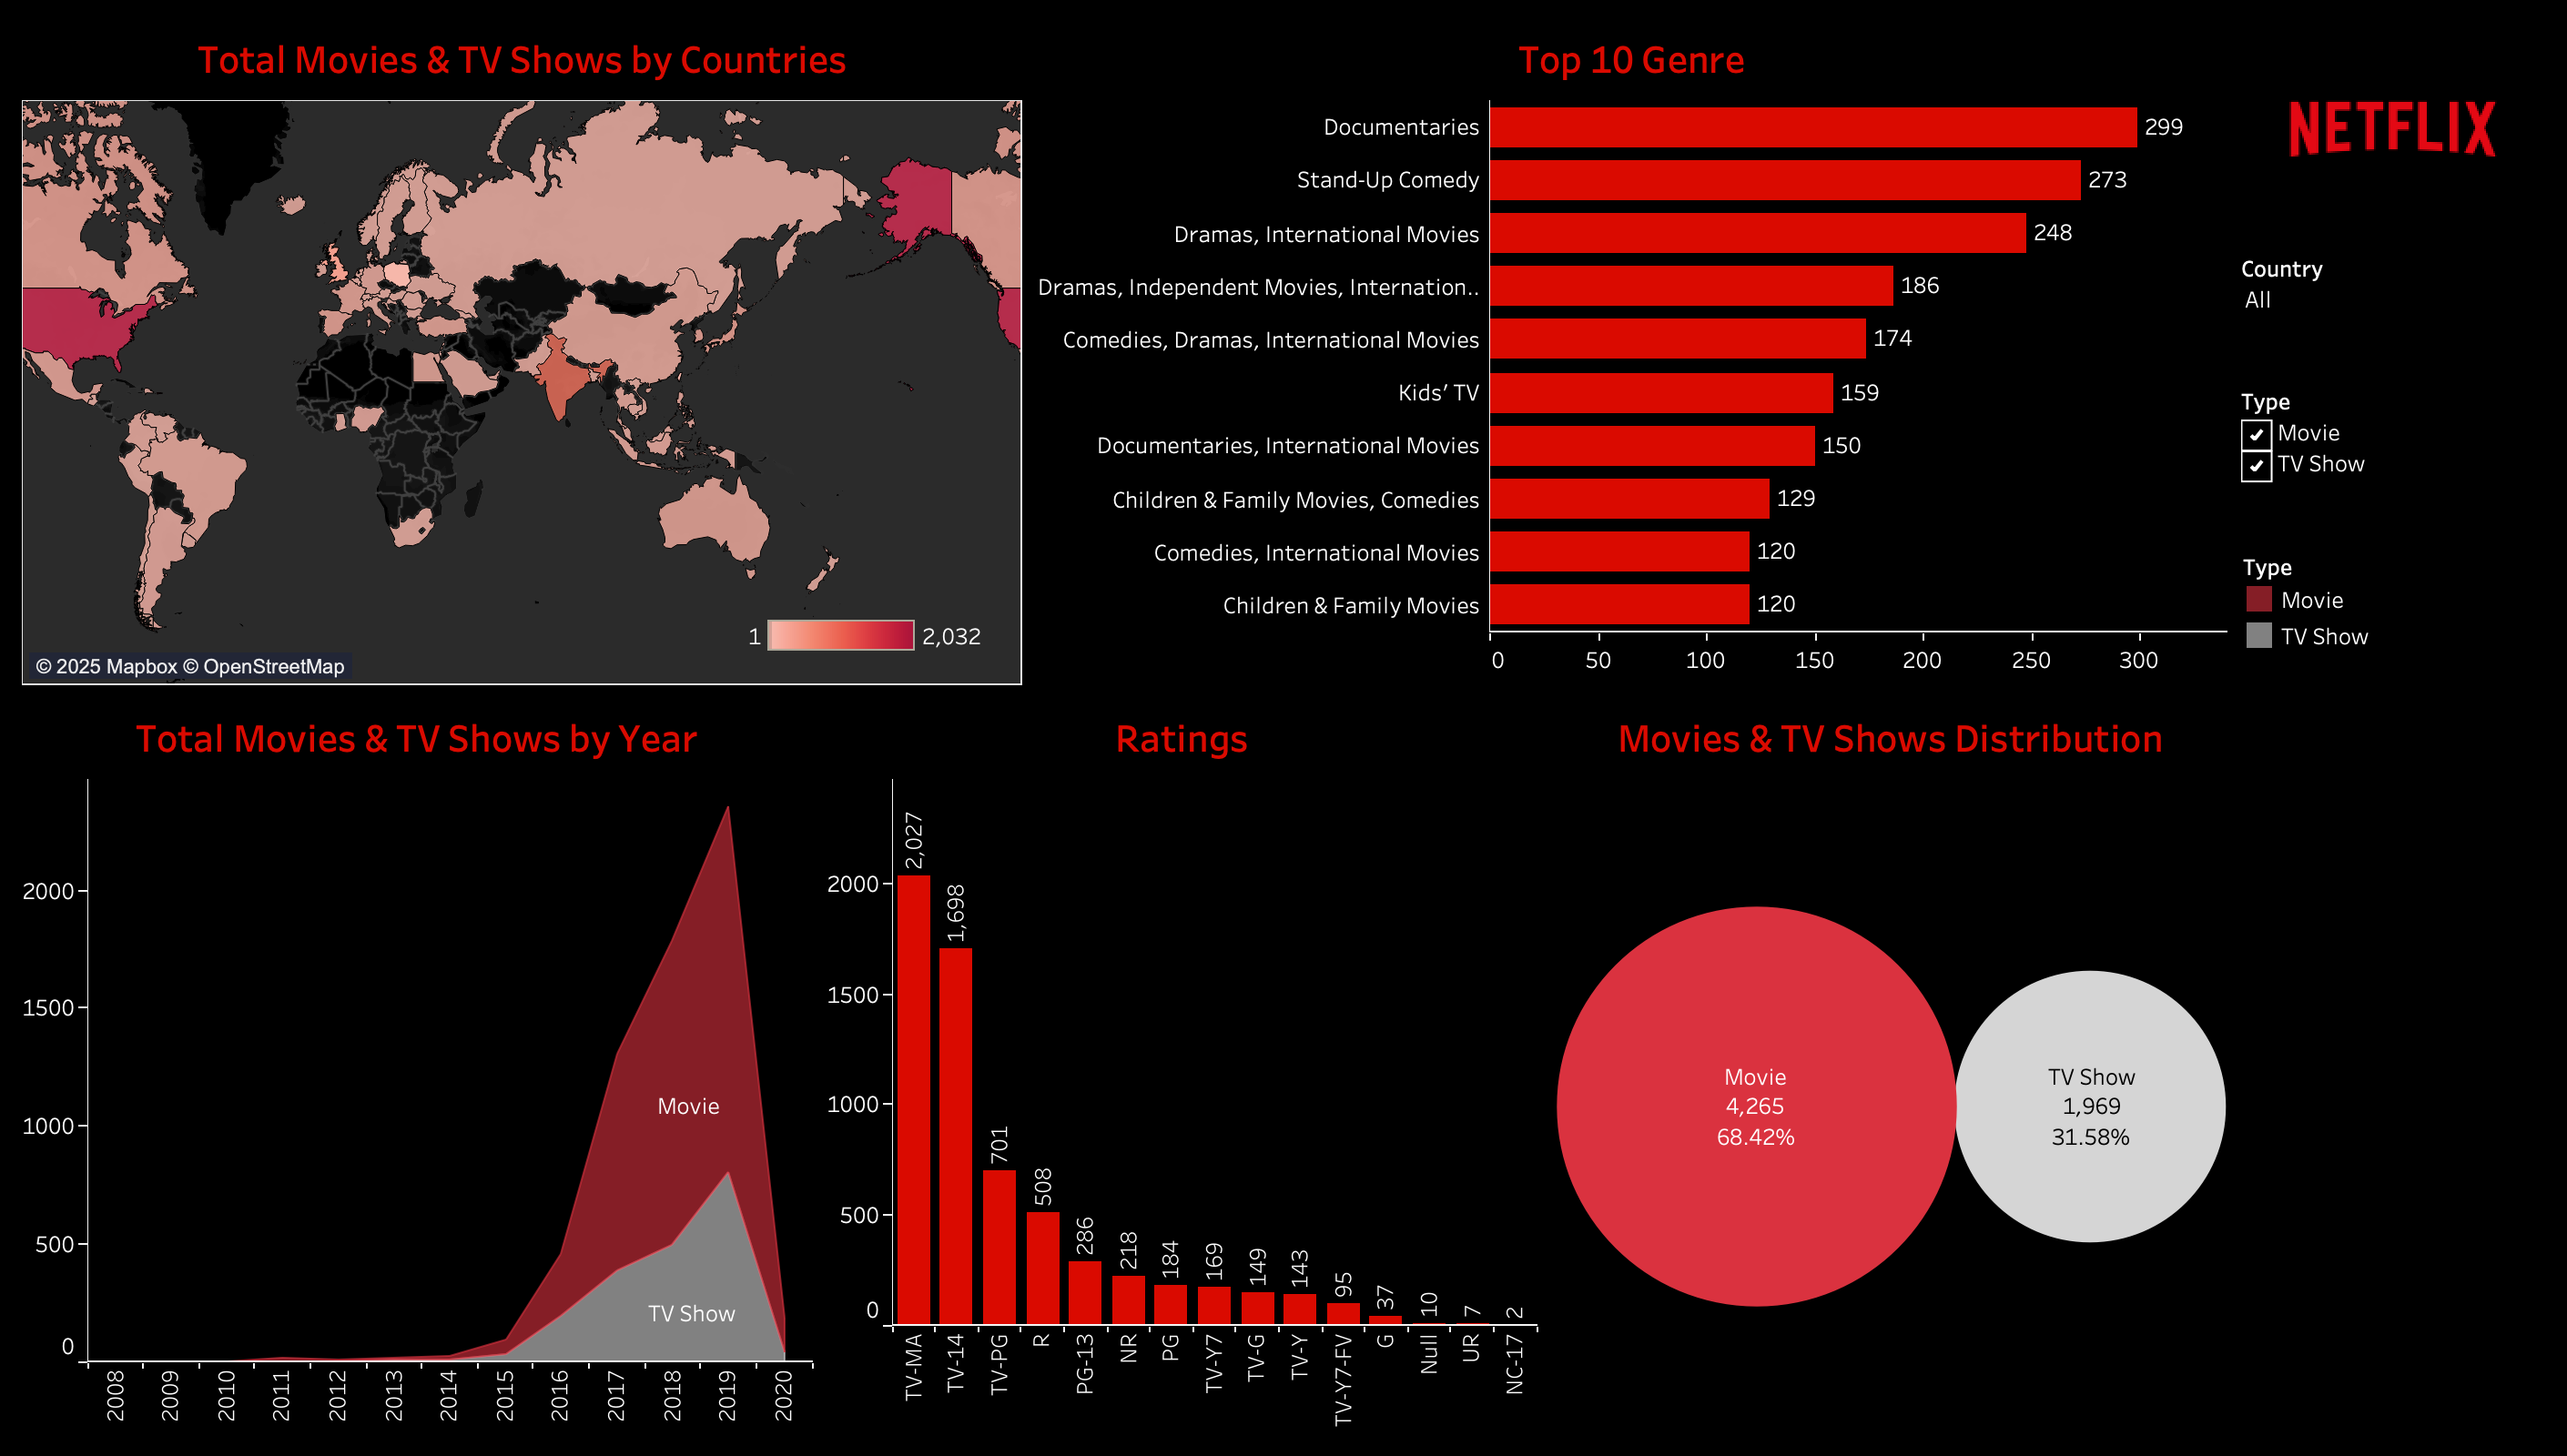

This screenshot's page, from the dashboard's own definition file:
{"tool":"tableau","page":{"name":"Netflix","canvas":[1410,800],"ordinal":0},"visuals":[{"type":"worksheet","title":"Total Movies & TV Shows by Countries","mark":"Multipolygon","box":[8,8,558.3,373]},{"type":"worksheet","title":"Top 10 Genre","mark":"Automatic","rows":["listed_in"],"cols":["show_id"],"box":[566.3,8,660.7,373]},{"type":"image","param":"/Users/siya/Downloads/Netflix Dashboard/Netflix logo.png","box":[1227,8,175,126]},{"type":"filter","title":"Total Movies & TV Shows by Year","param":"[federated.1kptx0v0jbjw831bnegm413axtkj].[none:country:nk]","box":[1227,134,175,73]},{"type":"filter","title":"Total Movies & TV Shows by Year","param":"[federated.1kptx0v0jbjw831bnegm413axtkj].[none:type:nk]","box":[1227,207,175,90]},{"type":"legend","title":"Total Movies & TV Shows by Year","param":"[federated.1kptx0v0jbjw831bnegm413axtkj].[none:type:nk]","box":[1227,297,175,82]},{"type":"legend","title":"Total Movies & TV Shows by Countries","param":"[federated.1kptx0v0jbjw831bnegm413axtkj].[ctd:show_id:qk]","box":[407,337,137,34]},{"type":"worksheet","title":"Total Movies & TV Shows by Year","mark":"Area","rows":["show_id"],"cols":["date_added"],"box":[8,381,442.4,411]},{"type":"worksheet","title":"Ratings","mark":"Automatic","rows":["show_id"],"cols":["rating"],"box":[450.4,381,399.3,411]},{"type":"worksheet","title":"Movies & TV Shows Distribution","mark":"Circle","box":[849.7,381,377.3,411]}]}

Visuals, with their boxes in screenshot pixels (x1, y1, x2, y2), scaled from the page's 1410x800 canvas onto the 2567x1456 screenshot:
"Total Movies & TV Shows by Countries" worksheet (Multipolygon marks): x1=15 y1=15 x2=1031 y2=693
"Top 10 Genre" worksheet: x1=1031 y1=15 x2=2234 y2=693
image: x1=2234 y1=15 x2=2552 y2=244
"Total Movies & TV Shows by Year" filter: x1=2234 y1=244 x2=2552 y2=377
"Total Movies & TV Shows by Year" filter: x1=2234 y1=377 x2=2552 y2=541
"Total Movies & TV Shows by Year" legend: x1=2234 y1=541 x2=2552 y2=690
"Total Movies & TV Shows by Countries" legend: x1=741 y1=613 x2=990 y2=675
"Total Movies & TV Shows by Year" worksheet (Area marks): x1=15 y1=693 x2=820 y2=1441
"Ratings" worksheet: x1=820 y1=693 x2=1547 y2=1441
"Movies & TV Shows Distribution" worksheet (Circle marks): x1=1547 y1=693 x2=2234 y2=1441
